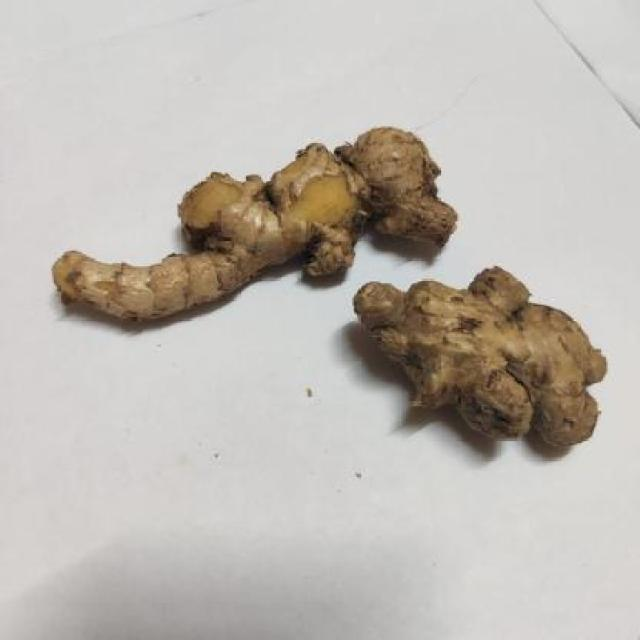Ginger: (52, 119, 463, 332), (352, 264, 616, 472)
